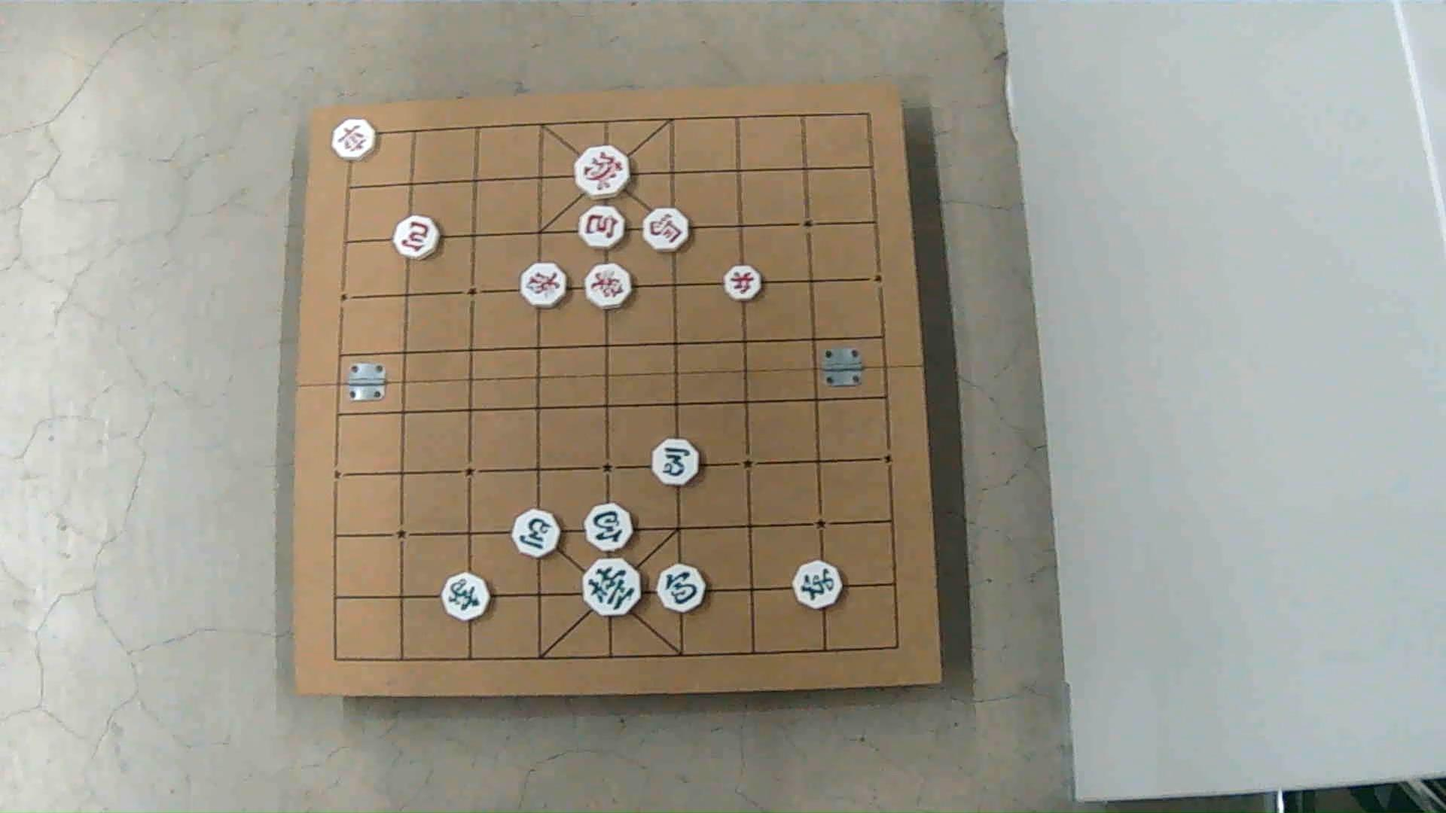cha_green: (792, 560, 840, 607)
cha_red: (334, 118, 380, 160)
jol_red: (725, 264, 764, 300)
ma_green: (514, 510, 562, 559), (651, 440, 698, 487)
ma_red: (641, 209, 688, 253)
po_green: (660, 565, 708, 614), (587, 502, 635, 550)
po_red: (393, 215, 441, 257), (578, 206, 624, 249)
sang_green: (444, 574, 493, 622)
sang_red: (523, 263, 569, 308), (588, 265, 634, 310)
wang_green: (581, 559, 642, 617)
wang_red: (578, 146, 633, 199)
